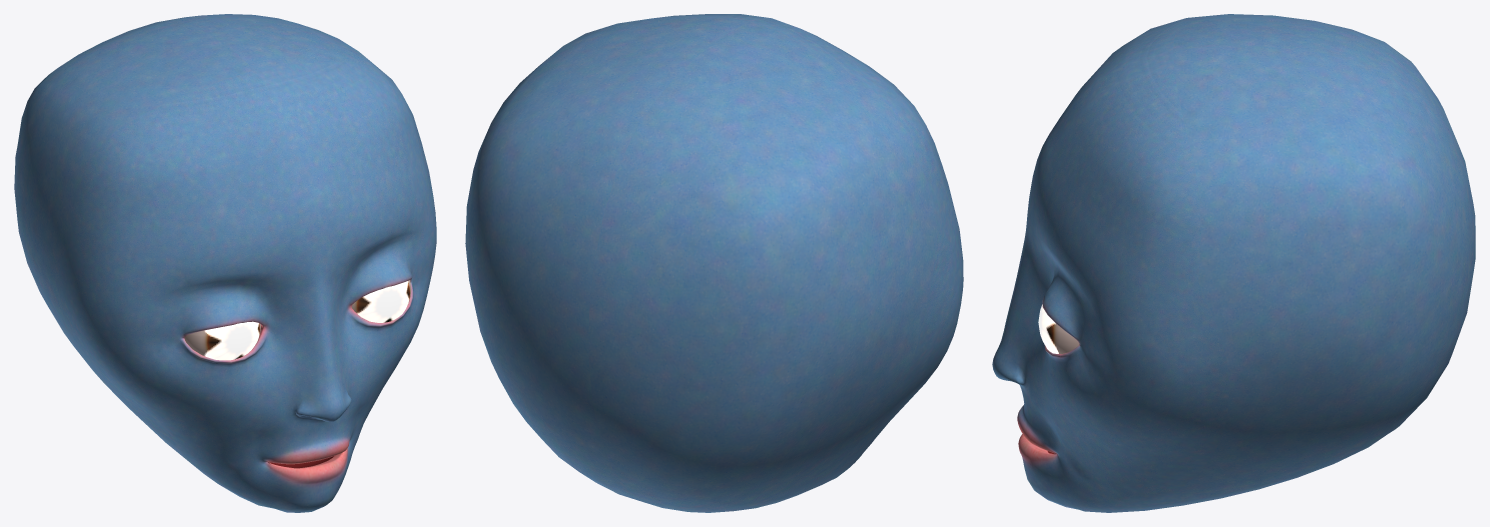
Rendered from alienhead.glb.
3 views of the same model, side by side, from view 1: azimuth 30°, elevation 25°; view 2: azimuth 150°, elevation 25°; view 3: azimuth 270°, elevation 25° (orthographic). The views are drawn at different scales.
Parts seen in each view (by area): view 1: Cube.001; view 2: Cube.001; view 3: Cube.001.
Boxes of the visible parts, x1=… form: Cube.001: x1=14, y1=14, x2=436, y2=512; Cube.001: x1=465, y1=14, x2=963, y2=512; Cube.001: x1=992, y1=14, x2=1475, y2=512.
Bounding box in the file's own units: 1.48 × 1.67 × 1.6.
Materials: 1 (1 with a texture image).
